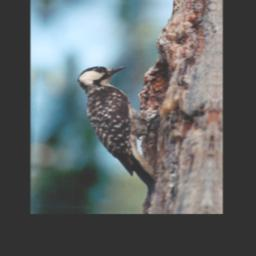Woodpecker: (58, 60, 171, 197)
